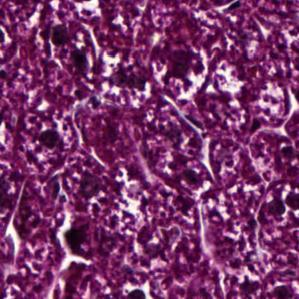inflammation: (96, 51, 155, 109), (150, 43, 210, 100), (55, 220, 98, 268), (247, 79, 290, 126), (208, 56, 249, 97), (261, 187, 299, 227), (120, 282, 154, 299)
